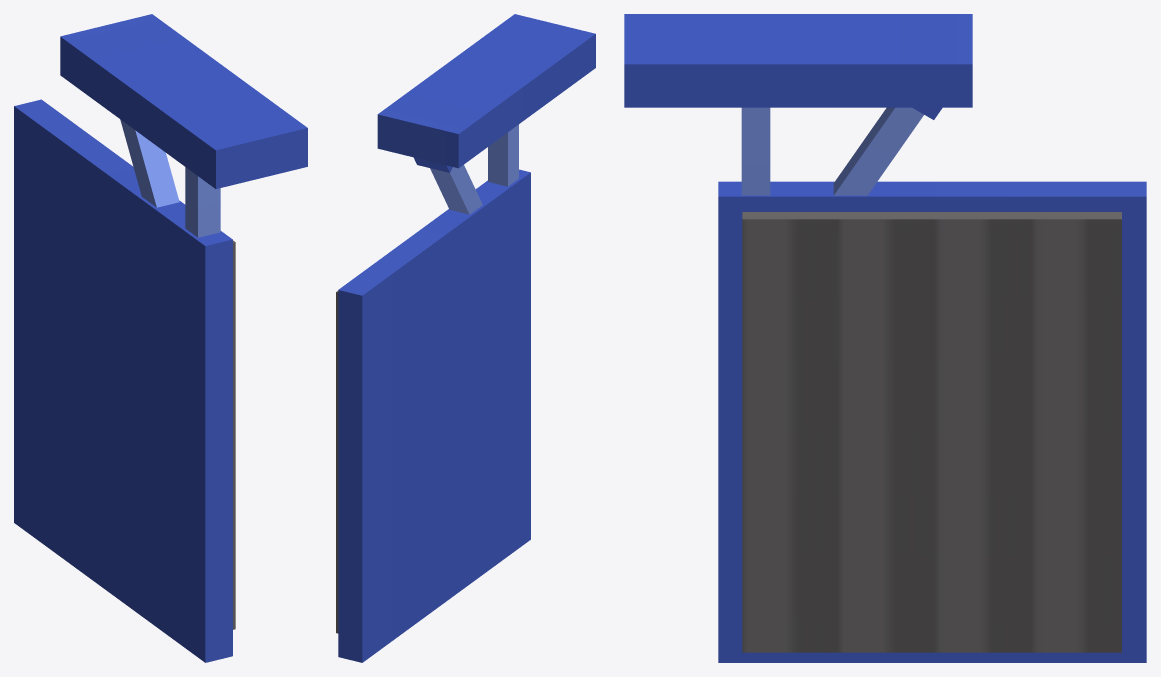
Rendered from SignProp_1_B_5.fbx.
3 renders of one model, left to right at view 1: azimuth 30°, elevation 25°; view 2: azimuth 150°, elevation 25°; view 3: azimuth 270°, elevation 25°, orthographic. The views are drawn at different scales.
Visible parts, largest first — view 1: SignProp_1_B_5; view 2: SignProp_1_B_5; view 3: SignProp_1_B_5.
Part boxes in pixels (bbox=[...]): SignProp_1_B_5: bbox=[14, 14, 307, 662]; SignProp_1_B_5: bbox=[336, 14, 595, 662]; SignProp_1_B_5: bbox=[624, 14, 1146, 662].
Size of the model in its own units: 20.79 by 119 by 91.36.
